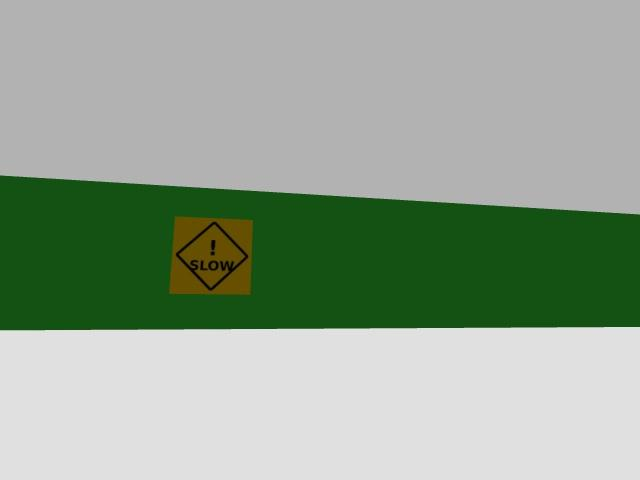slow: (170, 217, 252, 294)
